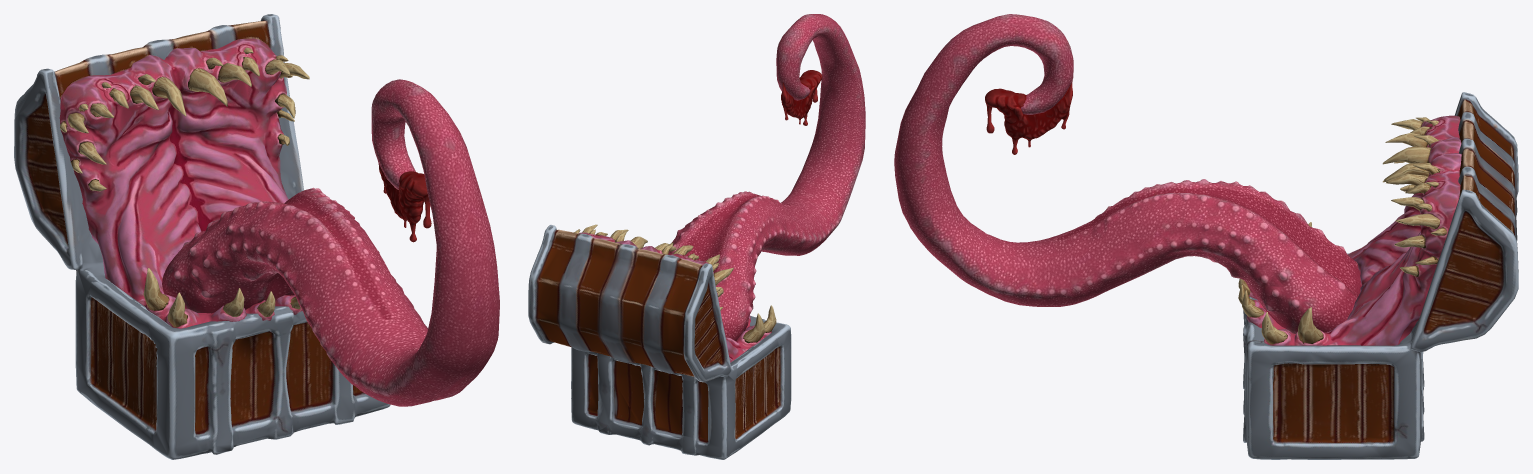
3 renders of one model, left to right at view 1: azimuth 30°, elevation 25°; view 2: azimuth 150°, elevation 25°; view 3: azimuth 270°, elevation 25°, orthographic. The views are drawn at different scales.
Visible parts, largest first — view 1: PM3D_Sphere3D, chest_object, PM3D_Cube3D, Extract10_01, Extract5; view 2: chest_object, PM3D_Sphere3D, Extract10_01, Extract5, PM3D_Cube3D; view 3: PM3D_Sphere3D, chest_object, PM3D_Cube3D, Extract10_01, Extract5.
Part boxes in pixels (x1,y1,x2,y2): PM3D_Sphere3D: (162,79,499,406); chest_object: (14,14,390,459); PM3D_Cube3D: (59,38,302,328); Extract10_01: (60,47,309,327); Extract5: (378,163,431,242); chest_object: (528,225,791,459); PM3D_Sphere3D: (668,14,865,340); Extract10_01: (574,224,776,343); Extract5: (781,70,822,125); PM3D_Cube3D: (578,232,771,362); PM3D_Sphere3D: (894,14,1361,333); chest_object: (1243,92,1518,459); PM3D_Cube3D: (1246,115,1461,345); Extract10_01: (1238,117,1446,344); Extract5: (985,80,1072,154).
Size of the model in its own units: 0.7726 by 1.41 by 2.
5 materials, 5 textured.
